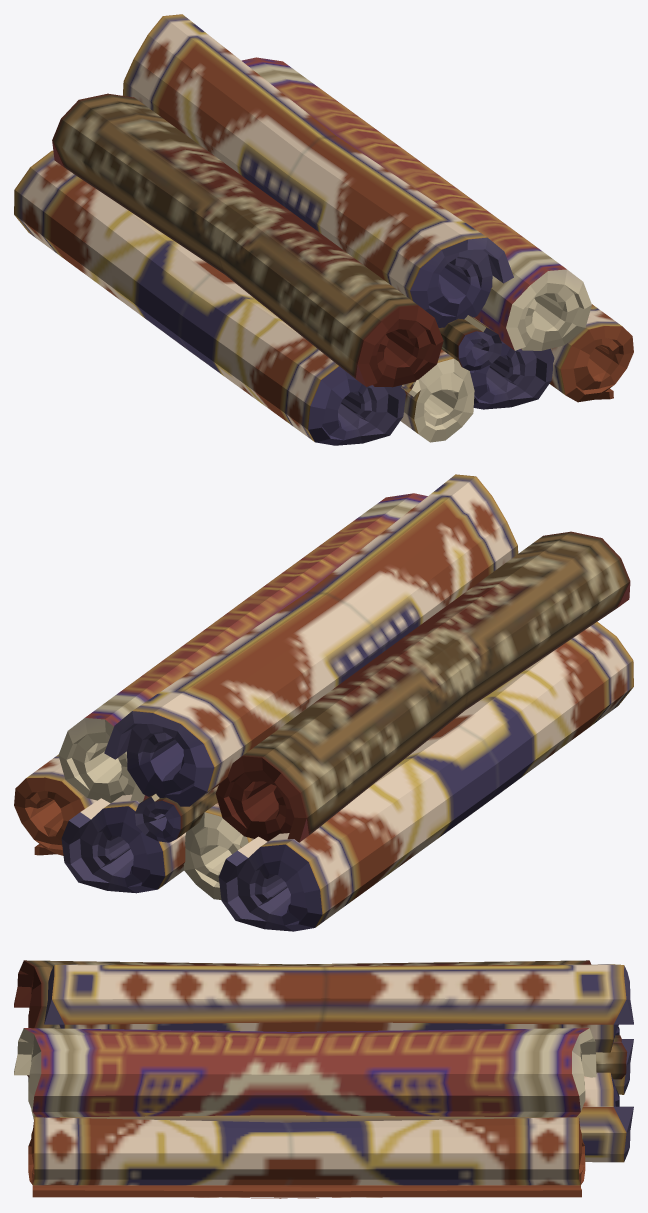
Rendered from SM_Prop_Rug_Rolls_02.glb.
The picture shows the model from 3 angles, top to bottom: view 1: azimuth 30°, elevation 25°; view 2: azimuth 150°, elevation 25°; view 3: azimuth 270°, elevation 25°; orthographic projection. The views are drawn at different scales.
Visible parts, largest first — view 1: SM_Prop_Rug_Rolls_02; view 2: SM_Prop_Rug_Rolls_02; view 3: SM_Prop_Rug_Rolls_02.
Part boxes in pixels (x1=…): SM_Prop_Rug_Rolls_02: x1=14, y1=14, x2=633, y2=445; SM_Prop_Rug_Rolls_02: x1=14, y1=474, x2=633, y2=931; SM_Prop_Rug_Rolls_02: x1=14, y1=960, x2=633, y2=1198.
Size of the model in its own units: 1.39 by 0.7949 by 2.58.
Materials: 1 (1 with a texture image).
